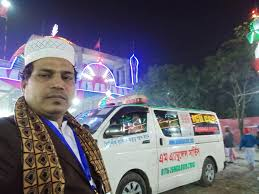ambulance: (76, 103, 226, 194)
